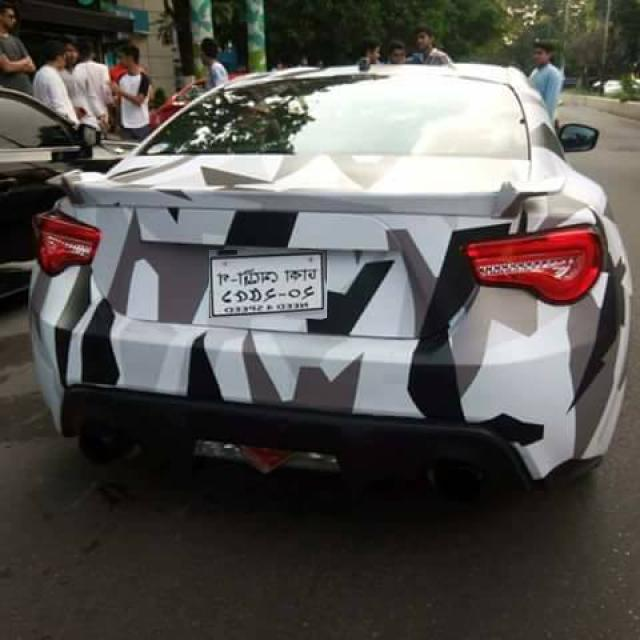numberplate: (209, 250, 327, 318)
